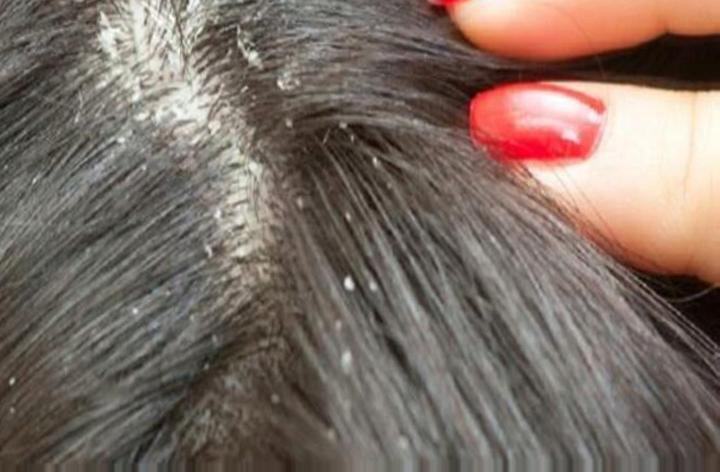Contact Dermatitis: (50, 28, 405, 425)
